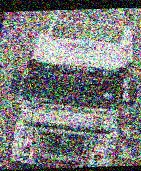truck: (5, 12, 141, 170)
